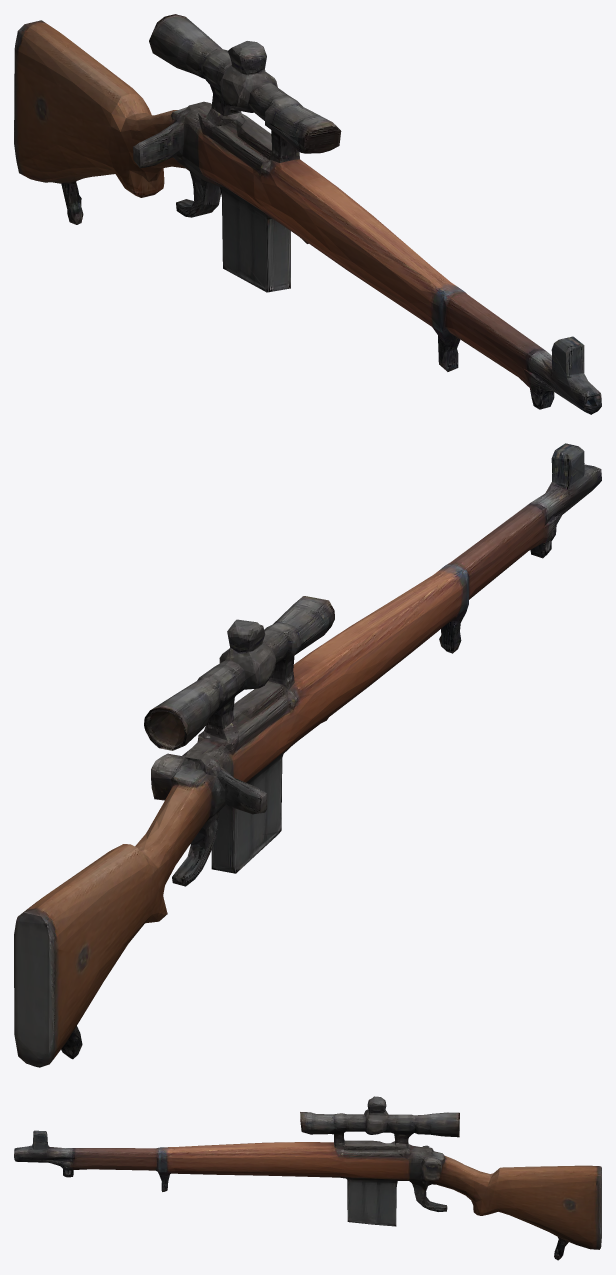
Rendered from enfield.glb.
The picture shows the model from 3 angles, top to bottom: view 1: azimuth 30°, elevation 25°; view 2: azimuth 150°, elevation 25°; view 3: azimuth 270°, elevation 25°; orthographic projection. The views are drawn at different scales.
Visible parts, largest first — view 1: geometry_0; view 2: geometry_0; view 3: geometry_0.
Boxes of the visible parts, x1,y1,x2,y2 form: geometry_0: (14,14,601,414); geometry_0: (14,443,601,1067); geometry_0: (14,1096,601,1260).
Bounding box in the file's own units: 0.1017 × 0.303 × 0.9998.
Materials: 1 (1 with a texture image).
